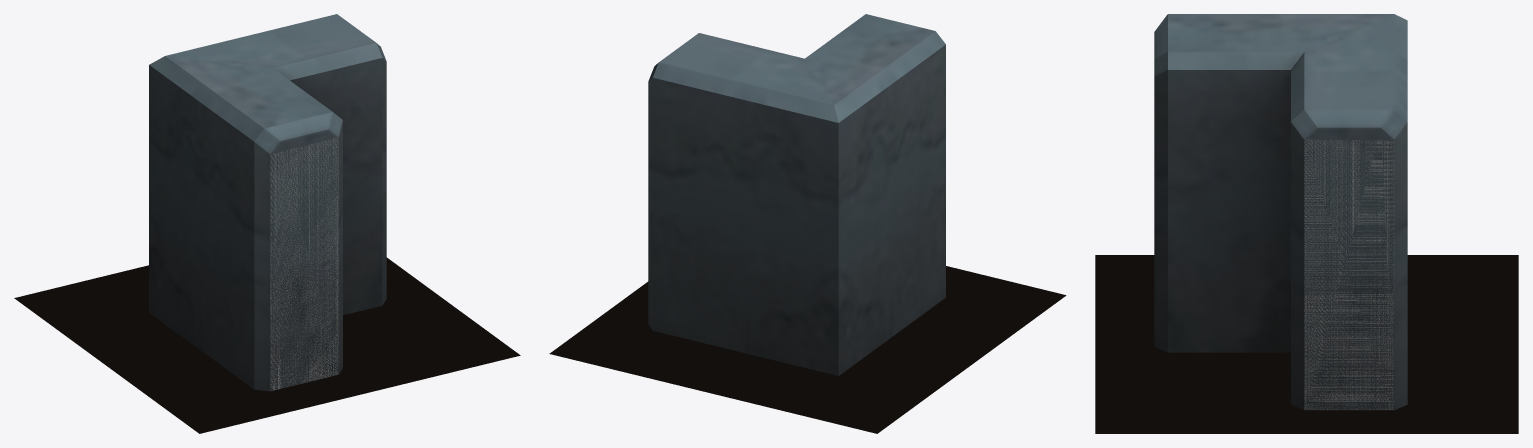
File: 1x1_stone_wall_corner.FBX
3 views of the same model, side by side, from view 1: azimuth 30°, elevation 25°; view 2: azimuth 150°, elevation 25°; view 3: azimuth 270°, elevation 25° (orthographic). The views are drawn at different scales.
Visible parts, largest first — view 1: 1x1_stone_wall_corner, 1x1_stone_wall_corner_soft_shadow, 1x1_stone_wall_corner_shadow_caster; view 2: 1x1_stone_wall_corner, 1x1_stone_wall_corner_soft_shadow; view 3: 1x1_stone_wall_corner, 1x1_stone_wall_corner_soft_shadow, 1x1_stone_wall_corner_shadow_caster.
Boxes of the visible parts, bbox=[...] form: 1x1_stone_wall_corner: bbox=[149, 14, 386, 391]; 1x1_stone_wall_corner_soft_shadow: bbox=[14, 257, 520, 433]; 1x1_stone_wall_corner_shadow_caster: bbox=[270, 138, 338, 390]; 1x1_stone_wall_corner: bbox=[648, 14, 945, 375]; 1x1_stone_wall_corner_soft_shadow: bbox=[549, 266, 1066, 433]; 1x1_stone_wall_corner: bbox=[1154, 14, 1407, 410]; 1x1_stone_wall_corner_soft_shadow: bbox=[1095, 255, 1518, 433]; 1x1_stone_wall_corner_shadow_caster: bbox=[1304, 139, 1394, 409].
Size of the model in its own units: 1086 by 850 by 1086.
